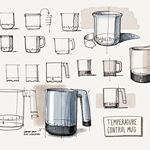cups: (53, 35, 77, 57), (23, 34, 46, 55)
